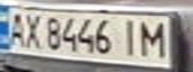4: (75, 16, 96, 54), (57, 15, 78, 52)
6: (90, 16, 118, 56)
8: (42, 14, 63, 52)
A: (3, 10, 30, 48)
I: (115, 17, 145, 56)
M: (136, 17, 172, 59)
X: (18, 11, 45, 50)
